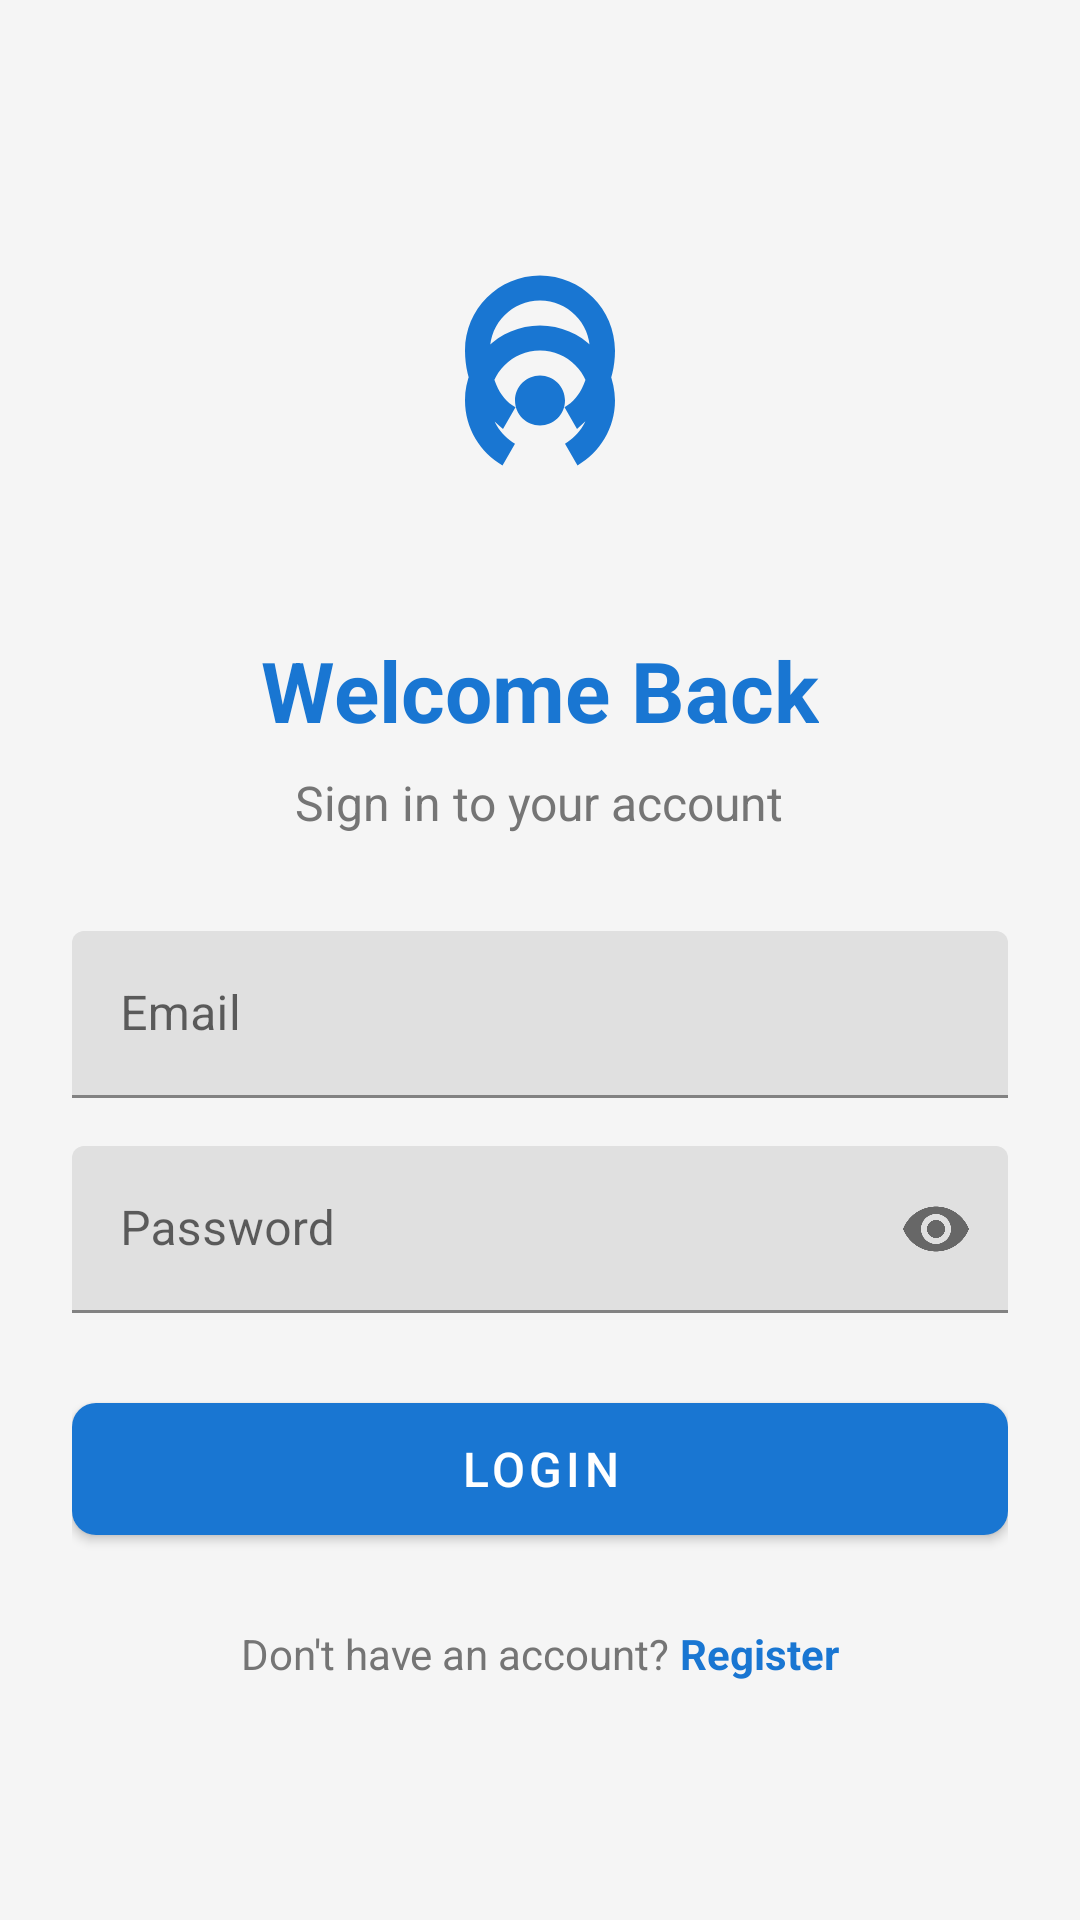

Screen size 1080px×1920px. Icon name, then its box in pixels as (x1, y1, x2, y2):
wifi hotspot: (465, 275, 615, 466)
